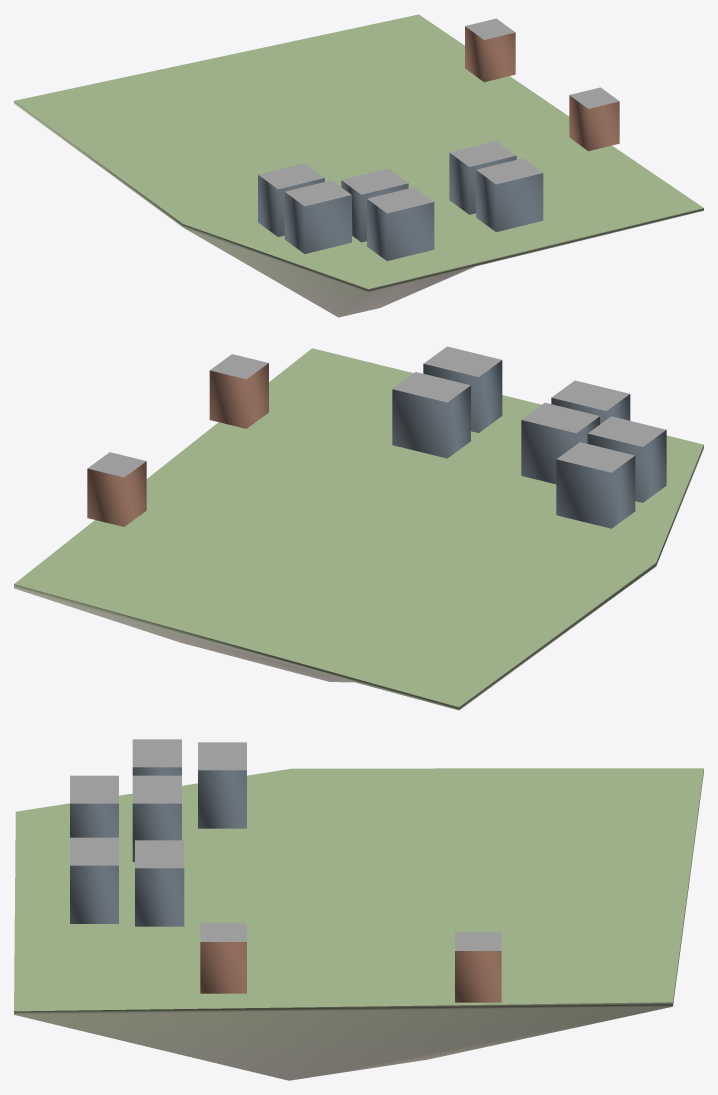
File: SKY-070.lod2.glb
3 views of the same model, one above another, from view 1: azimuth 30°, elevation 25°; view 2: azimuth 150°, elevation 25°; view 3: azimuth 270°, elevation 25° (orthographic). The views are drawn at different scales.
Parts seen in each view (by area): view 1: deck, buildings, rock; view 2: deck, buildings, rock; view 3: deck, buildings, rock.
Boxes of the visible parts, x1,y1,x2,y2 form: deck: [14, 14, 703, 288]; buildings: [258, 18, 619, 260]; rock: [14, 101, 703, 317]; deck: [14, 348, 703, 706]; buildings: [87, 346, 666, 528]; rock: [14, 445, 703, 710]; deck: [14, 768, 703, 1011]; buildings: [70, 739, 501, 1002]; rock: [14, 770, 703, 1080].
Size of the model in its own units: 234 by 101 by 280.
